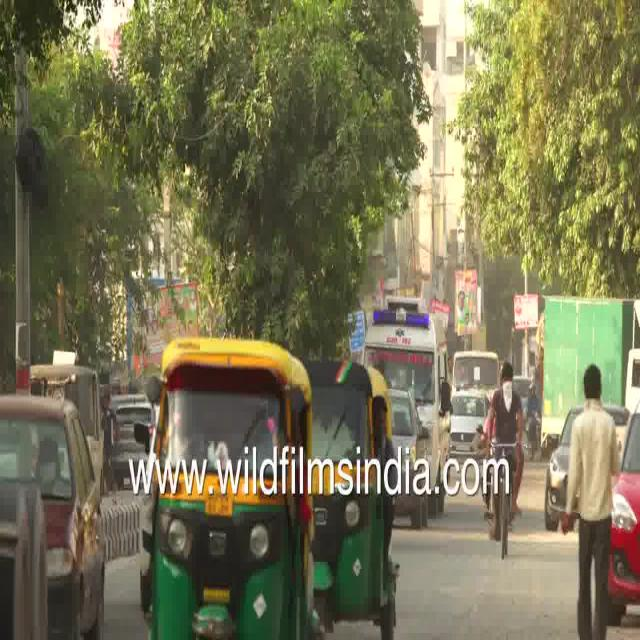ambulance: (363, 294, 449, 378)
